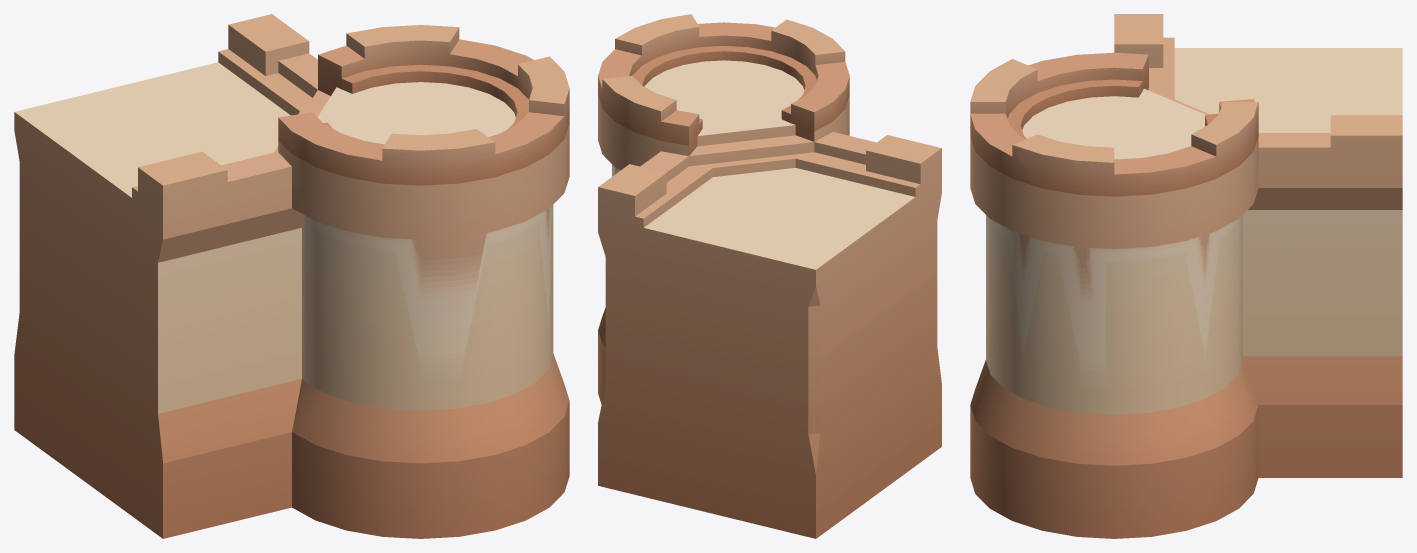
The model's file is wall-corner-half-tower.glb.
3 views of the same model, side by side, from view 1: azimuth 30°, elevation 25°; view 2: azimuth 150°, elevation 25°; view 3: azimuth 270°, elevation 25° (orthographic). The views are drawn at different scales.
Visible parts, largest first — view 1: wall-corner-half-tower; view 2: wall-corner-half-tower; view 3: wall-corner-half-tower.
Boxes of the visible parts, left/top/right/bottom form: wall-corner-half-tower: left=14, top=14, right=569, bottom=538; wall-corner-half-tower: left=598, top=14, right=941, bottom=538; wall-corner-half-tower: left=970, top=14, right=1402, bottom=538.
Size of the model in its own units: 1.5 by 1.44 by 1.5.
Materials: 1 (1 with a texture image).
